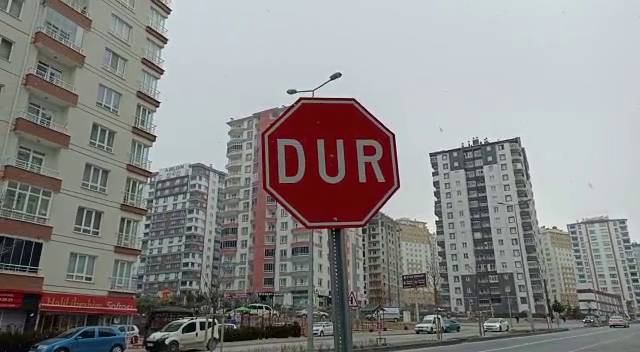stop: (259, 95, 404, 232)
